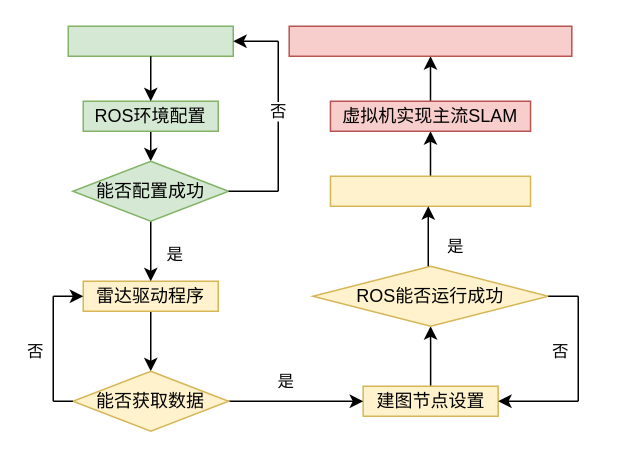
This 617x458 diagram has some shape labels left out. The shapes that lost their labels are listed below. From the top down, each one's box as (x1, y1, x2, y2) in pixels, then its label:
(67, 25, 233, 56): 烧录Ubuntu20.04
(288, 25, 572, 56): Fast-LIO,Cartographer,LIO-SAM
(329, 175, 531, 206): 小车底盘控制Web界面
